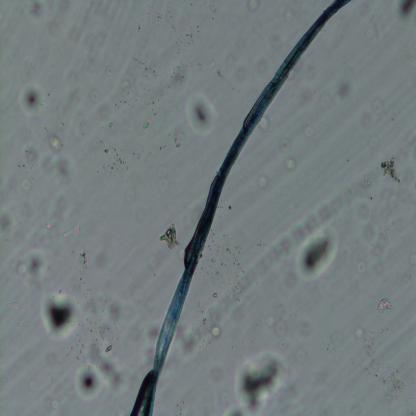Background material: (207, 222, 298, 321), (80, 44, 141, 140), (351, 183, 404, 284), (350, 330, 407, 404), (83, 275, 134, 339), (234, 352, 286, 414), (0, 174, 42, 242), (297, 222, 340, 281), (44, 189, 86, 241), (20, 139, 76, 177), (42, 292, 81, 342), (89, 343, 127, 391), (153, 60, 194, 104), (262, 297, 298, 346), (92, 140, 133, 180), (184, 92, 218, 136), (18, 78, 46, 116), (31, 390, 67, 416), (75, 365, 100, 400), (175, 328, 203, 359), (228, 59, 260, 86), (48, 0, 72, 34), (16, 251, 42, 282), (378, 155, 404, 186), (140, 321, 158, 358), (274, 127, 296, 156), (157, 221, 179, 249), (260, 108, 279, 140), (64, 82, 78, 118), (395, 0, 416, 24), (8, 298, 25, 326), (176, 28, 195, 53), (90, 248, 108, 274), (28, 0, 48, 23), (165, 131, 184, 155), (366, 94, 385, 112), (48, 133, 64, 154), (74, 247, 89, 269), (300, 314, 314, 337), (69, 24, 84, 44), (208, 60, 224, 78), (376, 298, 394, 314), (335, 82, 349, 100), (293, 346, 307, 364), (285, 156, 298, 173), (150, 256, 160, 272), (140, 120, 152, 133), (247, 0, 258, 13), (258, 174, 268, 188), (211, 325, 221, 338), (226, 199, 234, 214)
Cotton: (129, 0, 353, 416)
